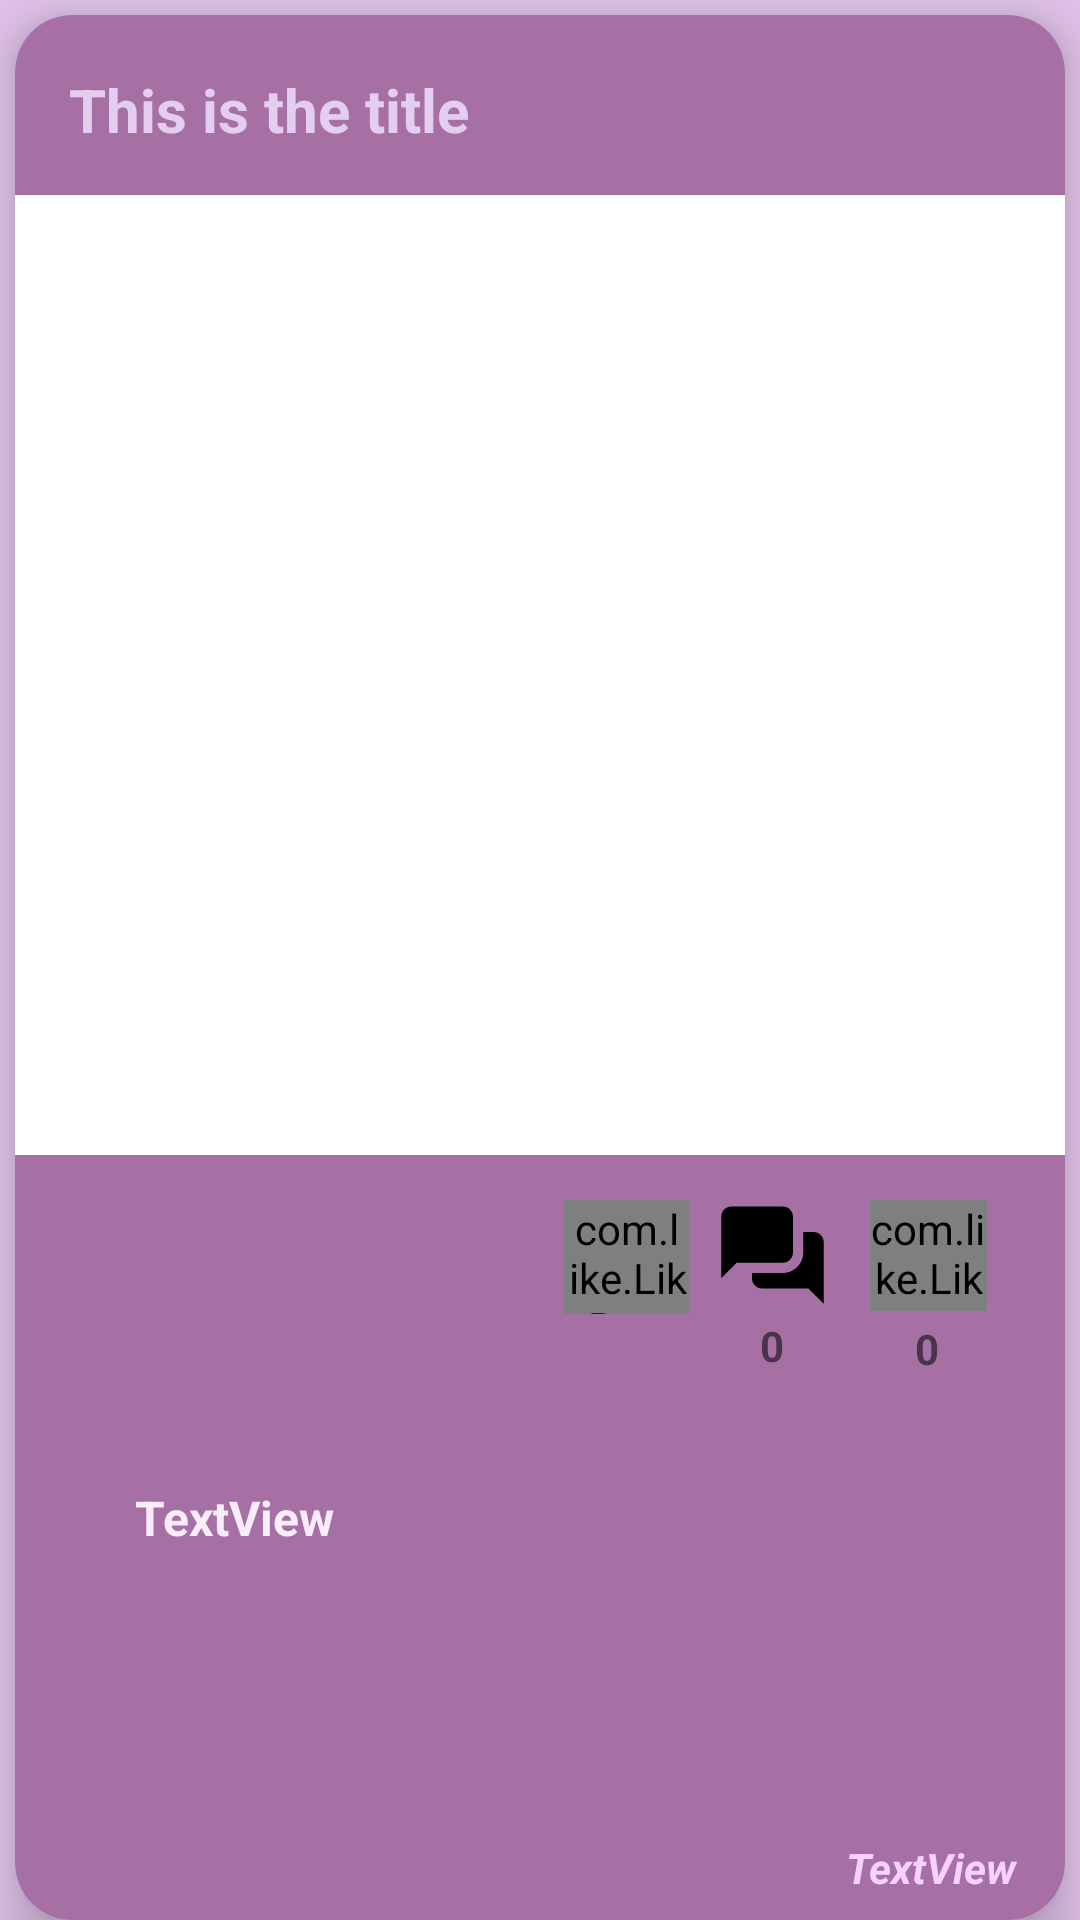

Icon bounding boxes for this 1080w x 1920h phone screenshot, format (x1, y1, x2, y2):
comments: (721, 1206, 824, 1304)
